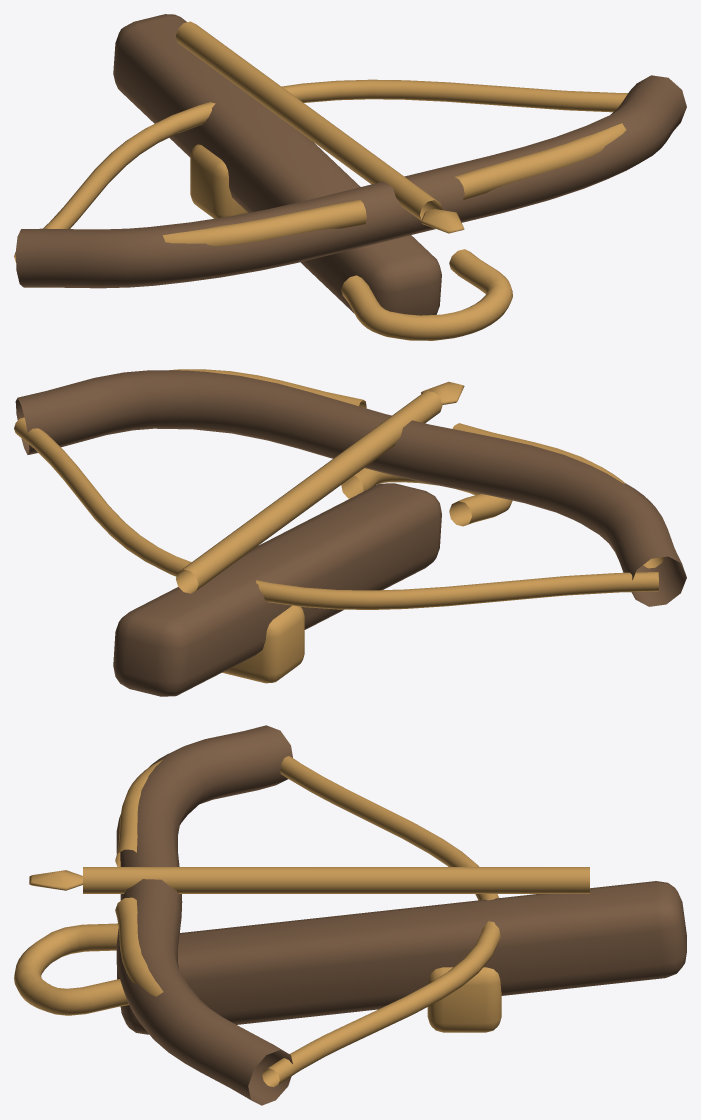
File: crossbow.glb
The picture shows the model from 3 angles, top to bottom: view 1: azimuth 30°, elevation 25°; view 2: azimuth 150°, elevation 25°; view 3: azimuth 270°, elevation 25°; orthographic projection. The views are drawn at different scales.
Parts seen in each view (by area): view 1: Crossbow_Pickup_Mesh; view 2: Crossbow_Pickup_Mesh; view 3: Crossbow_Pickup_Mesh.
Part boxes in pixels (x1,y1,x2,y2): Crossbow_Pickup_Mesh: (14, 14, 686, 340); Crossbow_Pickup_Mesh: (14, 369, 686, 696); Crossbow_Pickup_Mesh: (14, 725, 686, 1105).
Bounding box in the file's own units: 0.1412 × 0.0302 × 0.1182.
